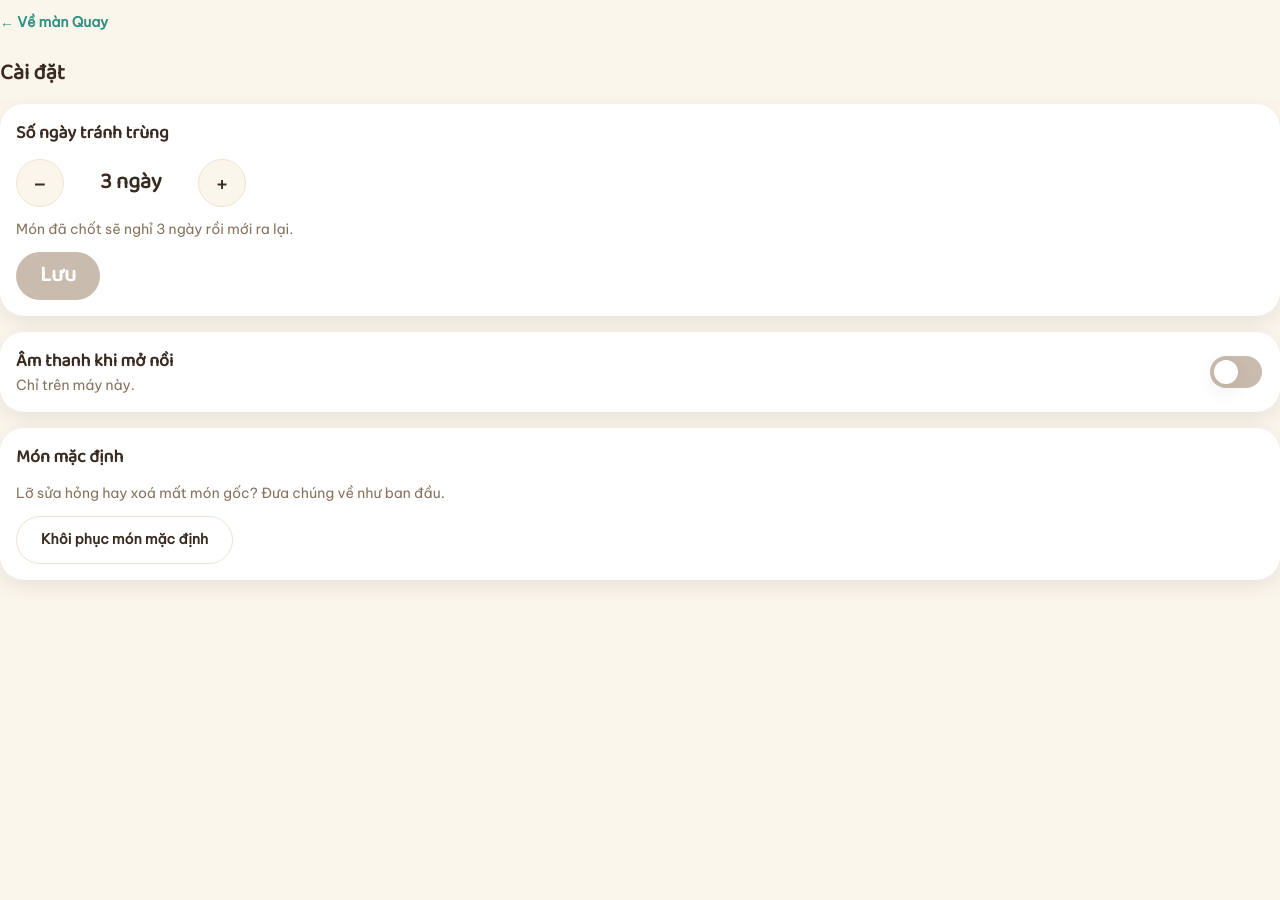
Test case: SettingsScreen › khôi phục món mặc định › hỏi xác nhận; Thôi thì không gọi server
Click the button "Khôi phục món mặc định".
click(125, 540)  # box [16,516,233,564]
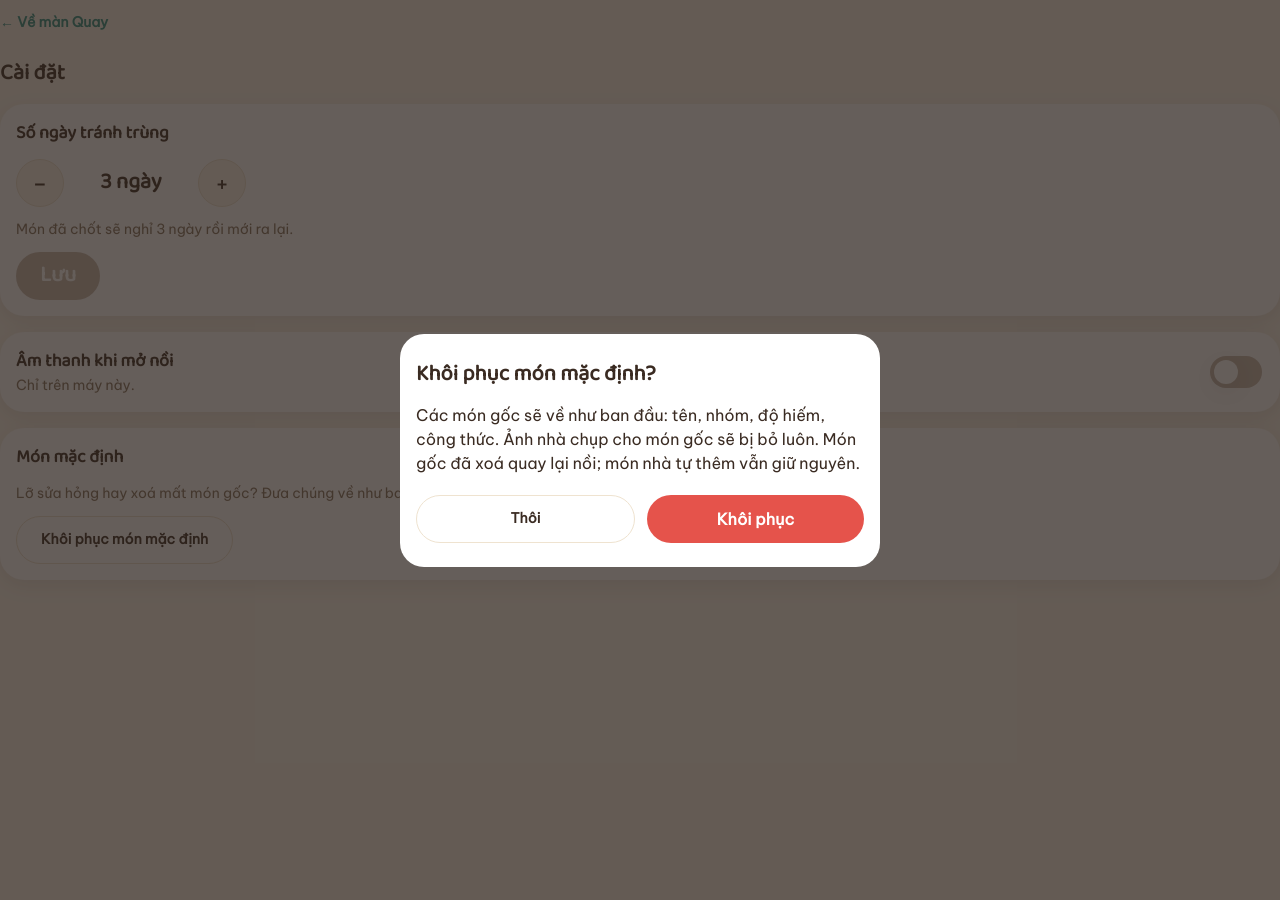
Expected: the dialog "Khôi phục món mặc định?" shows "món nhà tự thêm vẫn giữ nguyên.", [416,404,860,472]
Click the button "Thôi".
click(526, 518)  # box [416,494,635,542]
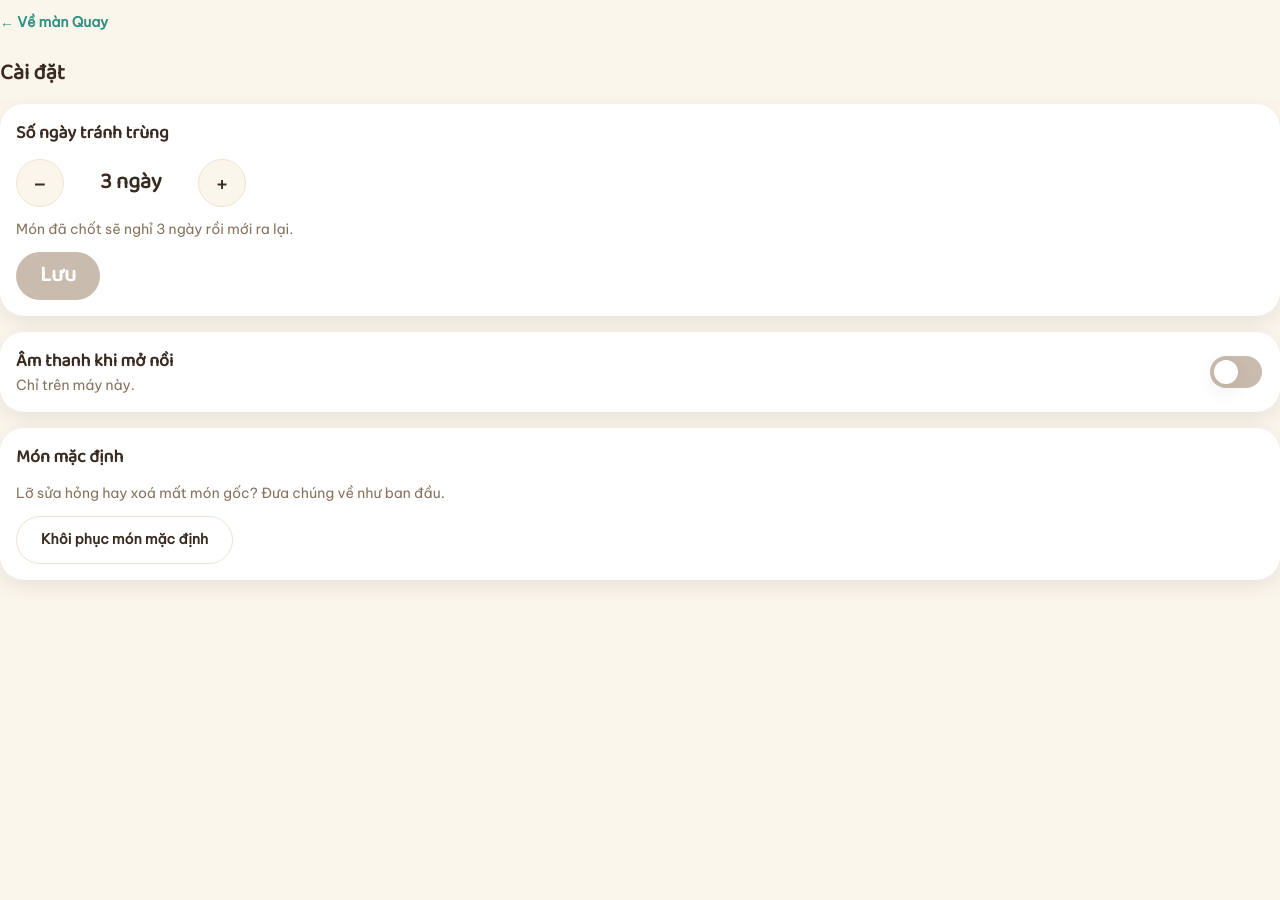
Expected: the dialog is gone
